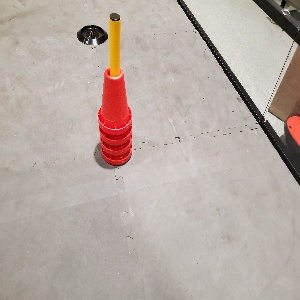Red_4: (96, 66, 132, 165)
